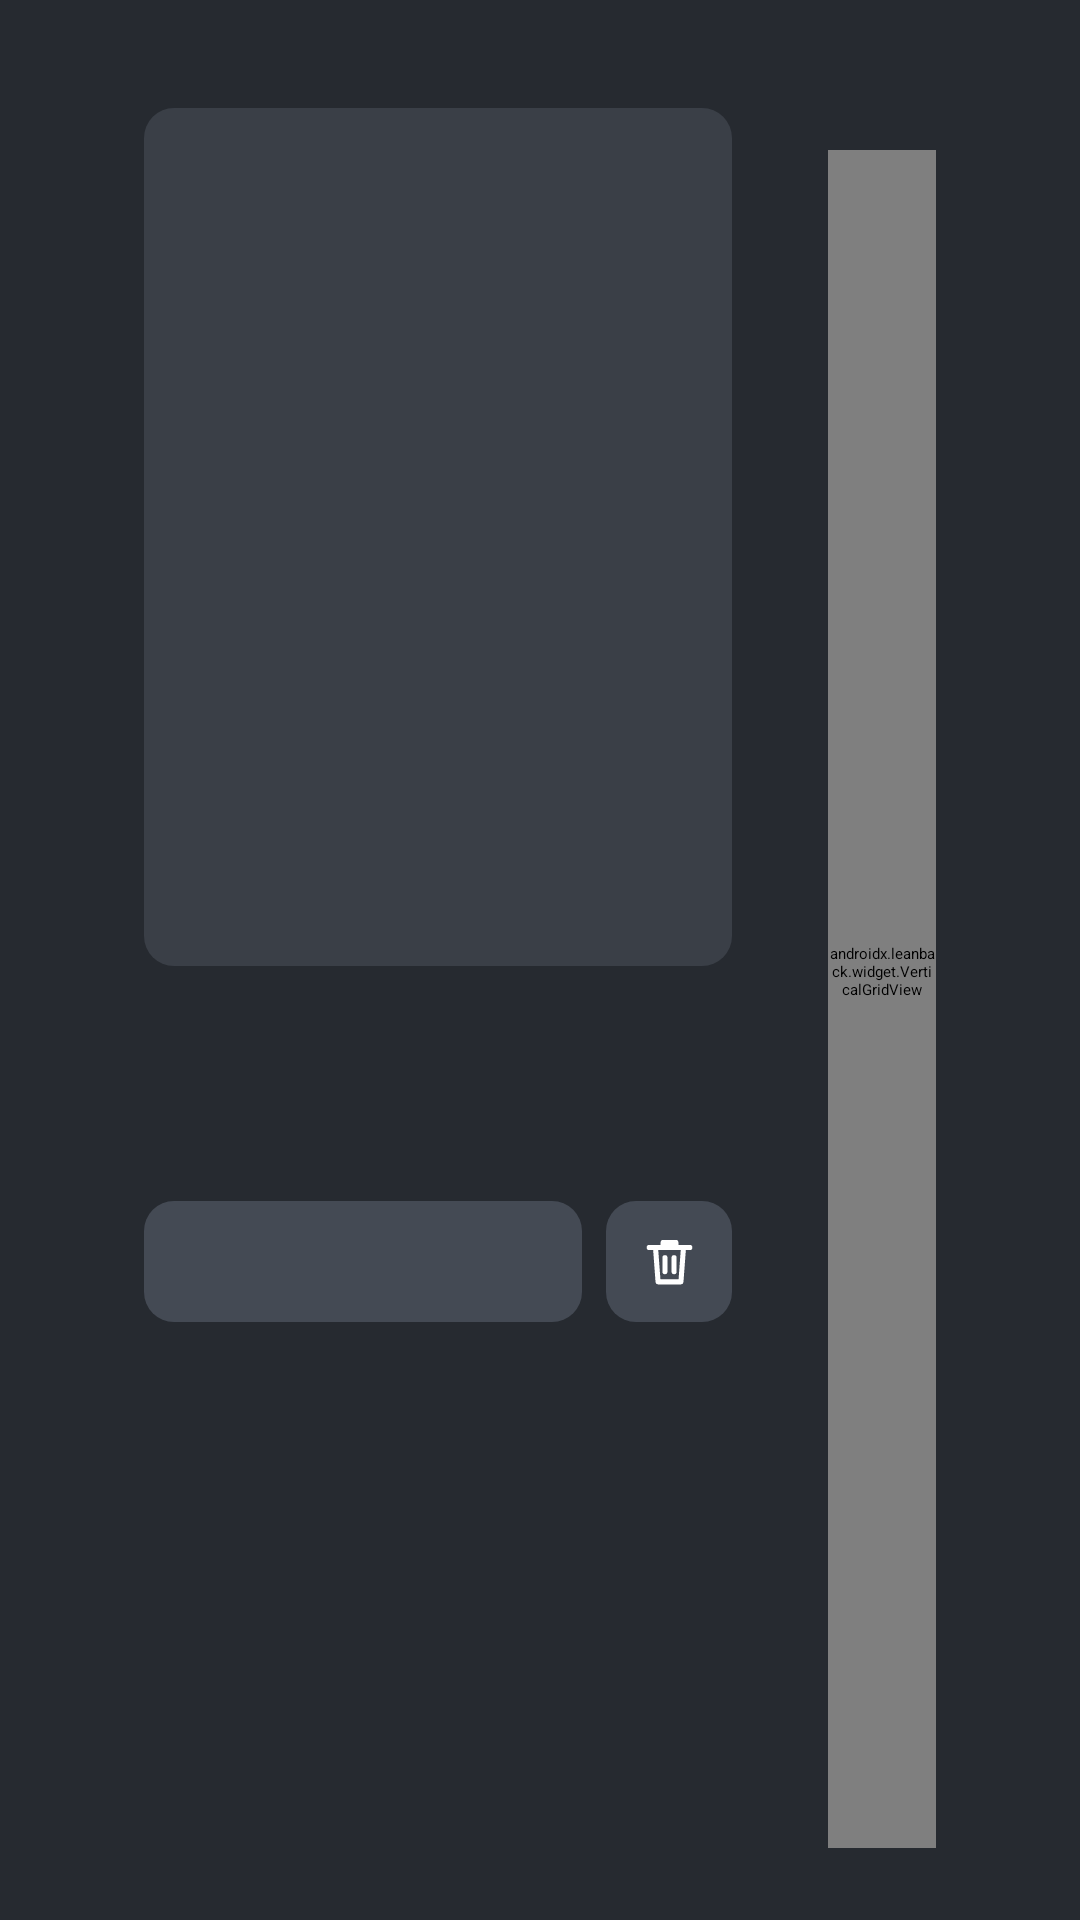

Icons on this 1080 × 1920 Android screen, each with its box as bbox=[x1, y1, x2, y2]:
Delete: bbox=[606, 1201, 732, 1322]
